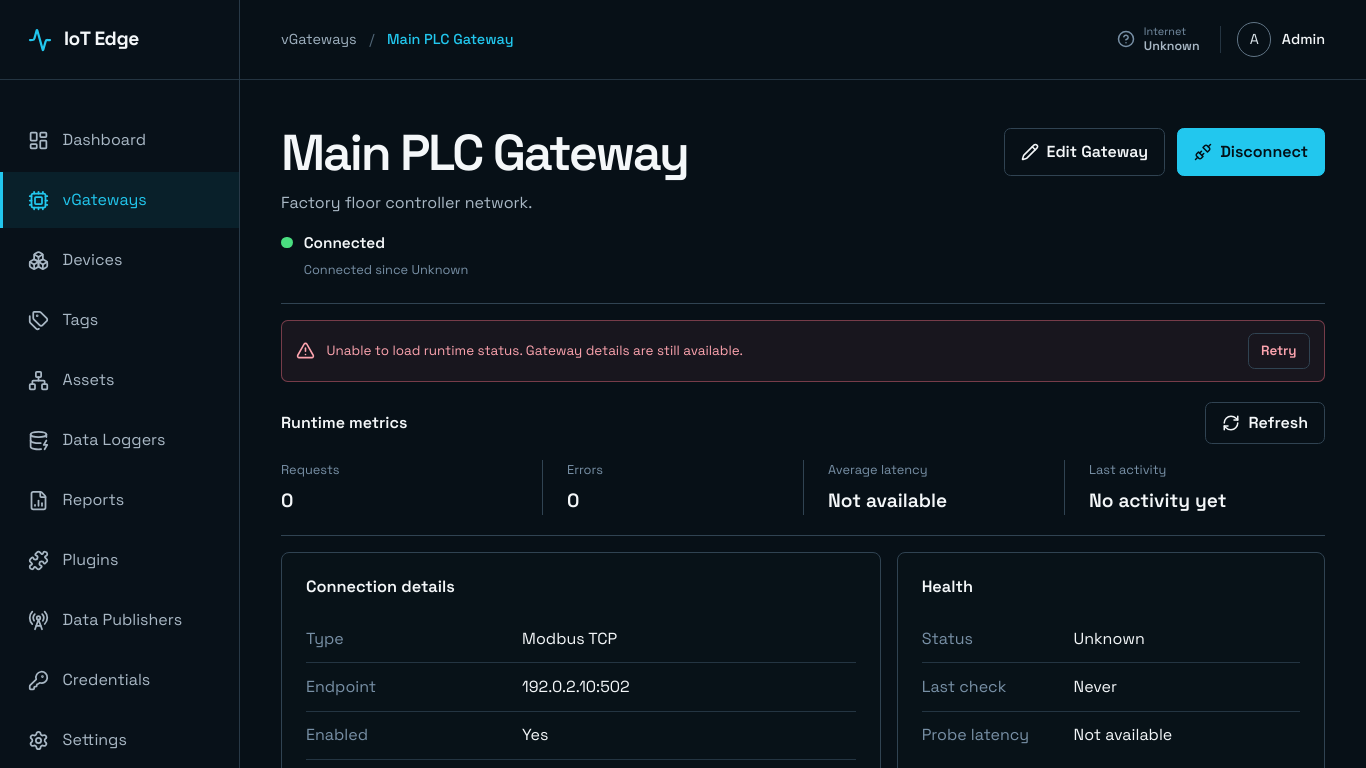
Test: VGatewayDetailPage › keeps gateway details visible when runtime status fails and retries status only
Expected: the heading "Main PLC Gateway" is shown, top-left (281, 128), bottom-right (688, 178)
Expected: the message "Unable to load runtime status. Gateway details are still available. Retry" is shown, top-left (281, 320), bottom-right (1325, 382)
Click the button "Retry": (1279, 351) top-left (1248, 333), bottom-right (1310, 369)
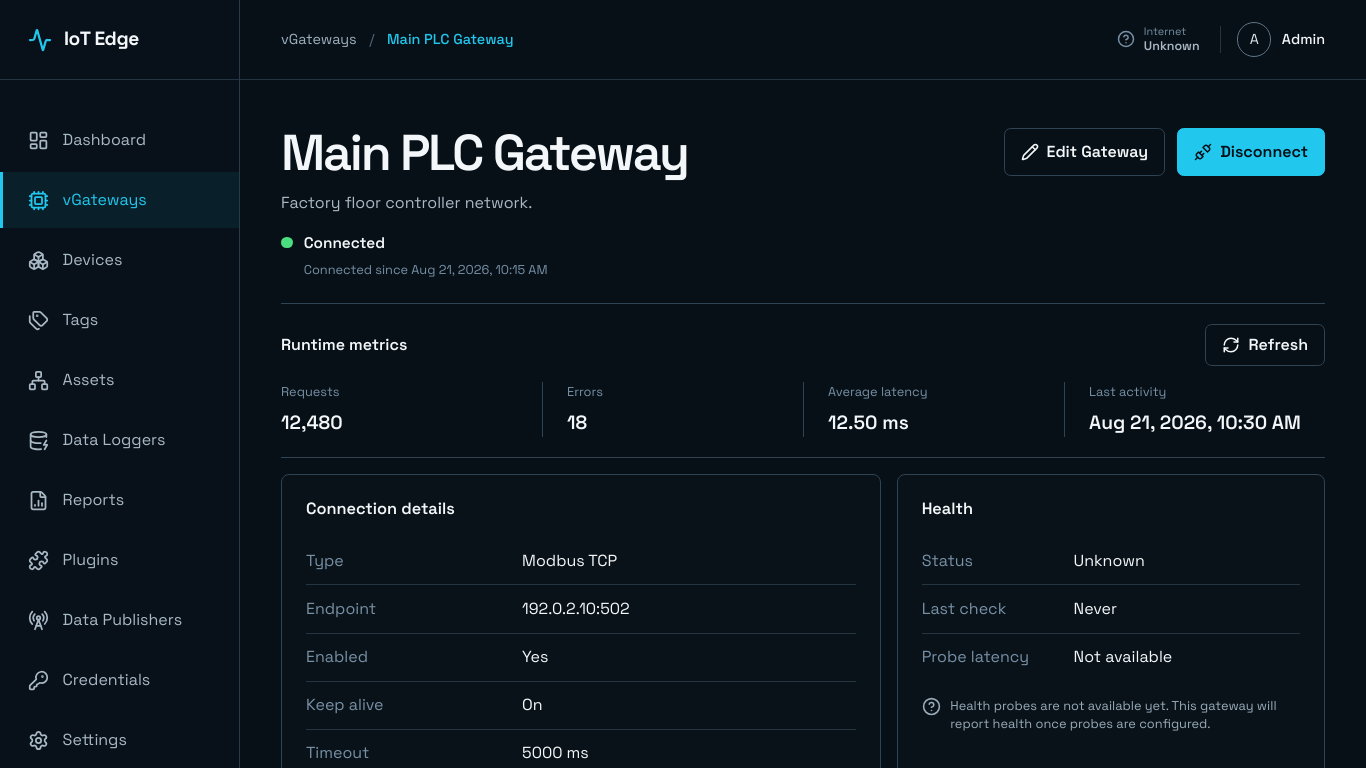
Now the text "12,480" is shown, box top-left (281, 410), bottom-right (343, 435)
